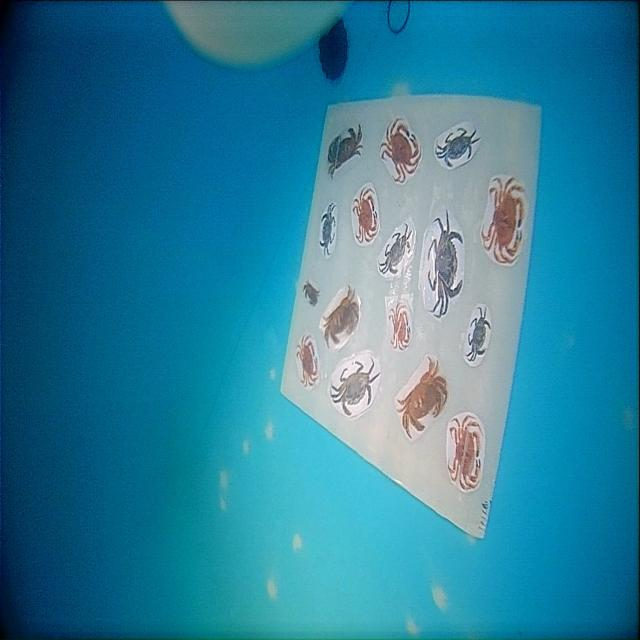GreenCrab: (428, 210, 463, 318), (330, 361, 380, 416), (435, 127, 481, 167), (467, 307, 490, 361)
